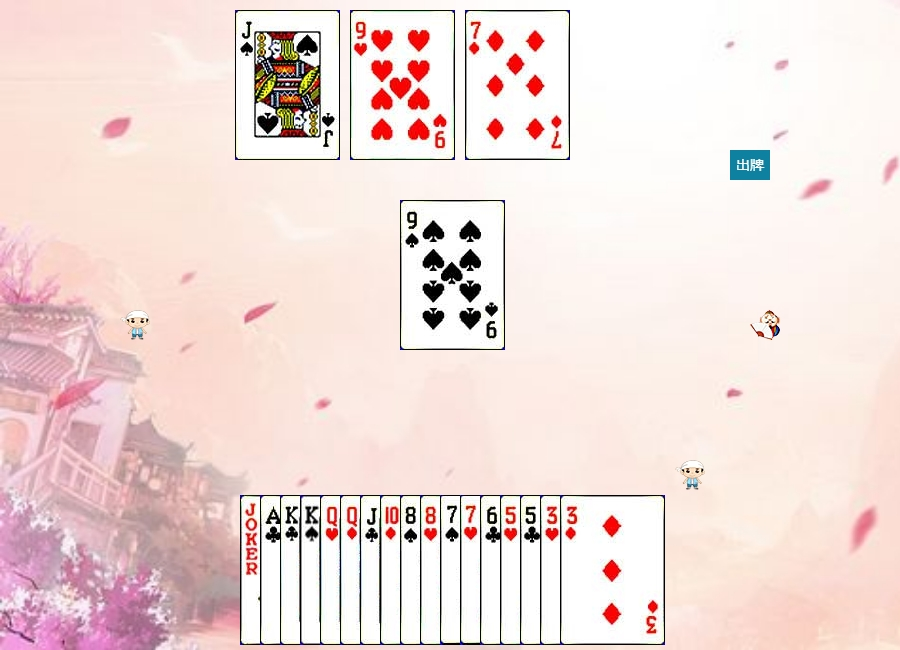10~1: (380, 495, 485, 645)
11~2: (360, 495, 465, 645)
11~4: (235, 10, 340, 160)
12~1: (340, 495, 445, 645)
12~3: (320, 495, 425, 645)
13~2: (280, 495, 385, 645)
13~4: (300, 495, 405, 645)
14~2: (260, 495, 365, 645)
18~4: (240, 495, 345, 645)
3~1: (560, 495, 665, 645)
3~3: (540, 495, 645, 645)
5~2: (520, 495, 625, 645)
5~3: (500, 495, 605, 645)
6~2: (480, 495, 585, 645)
7~1: (465, 10, 570, 160)
7~3: (460, 495, 565, 645)
7~4: (440, 495, 545, 645)
8~3: (420, 495, 525, 645)
8~4: (400, 495, 505, 645)
9~3: (350, 10, 455, 160)
9~4: (400, 200, 505, 350)
